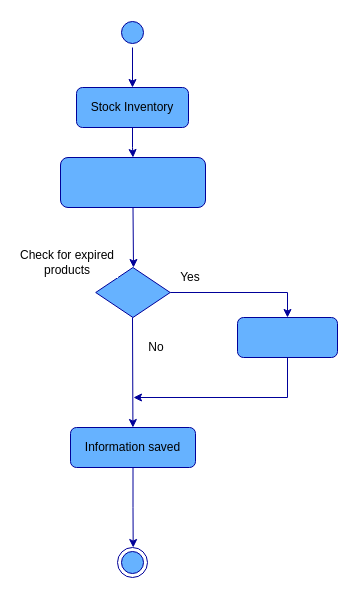
This 355x595 diagram has some shape labels left out. Here are the shapes that lost their labels. From the top down, the centre of each, then its label:
At pixel 133 182: "New Items added to inventory".
At pixel 287 337: "Deletion of expired products".
